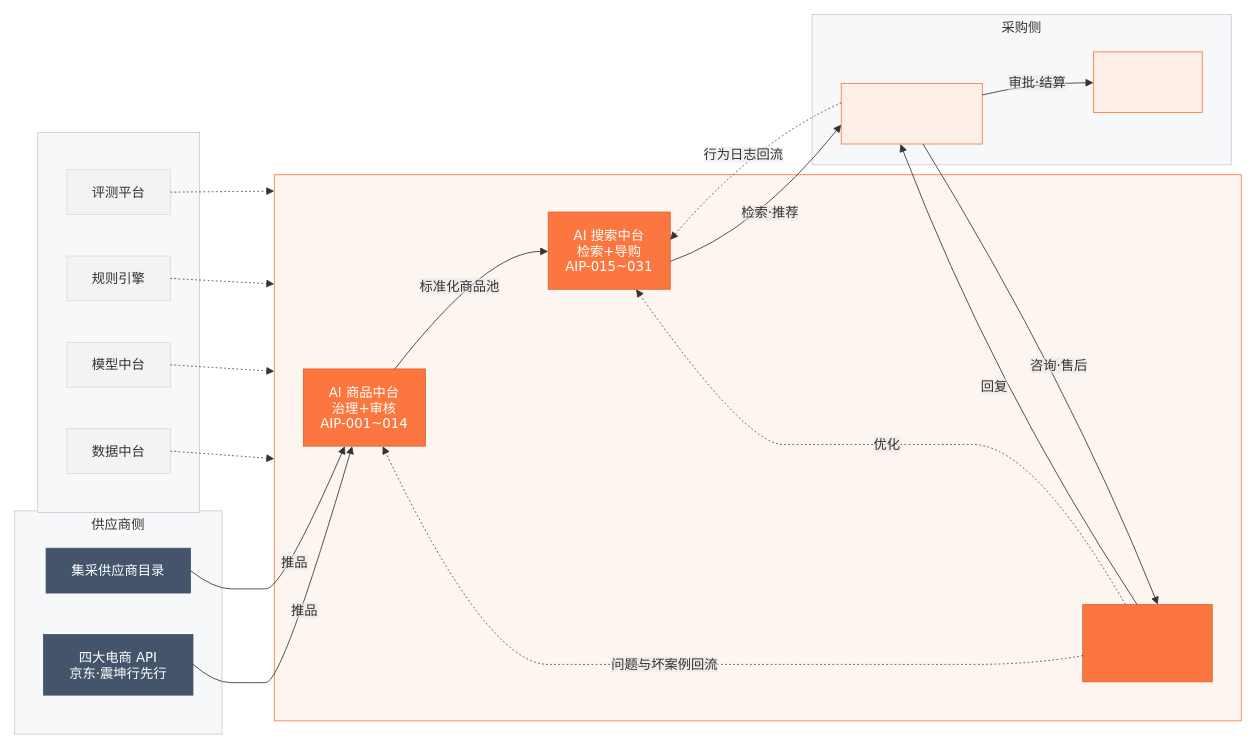
Image size: 1256x749. Some labels were removed from this diagram. Each missing label, with the box of its shape:
AI 客服中台 接待+售后 AICS-001~029: (1082, 604, 1212, 682)
公共底座: (37, 132, 200, 513)
平台侧 · 三大 AI 中台: (273, 174, 1241, 721)
采购人员 找货·比选·下单: (840, 83, 982, 144)
采购单位 预算·审批: (1093, 51, 1202, 112)
